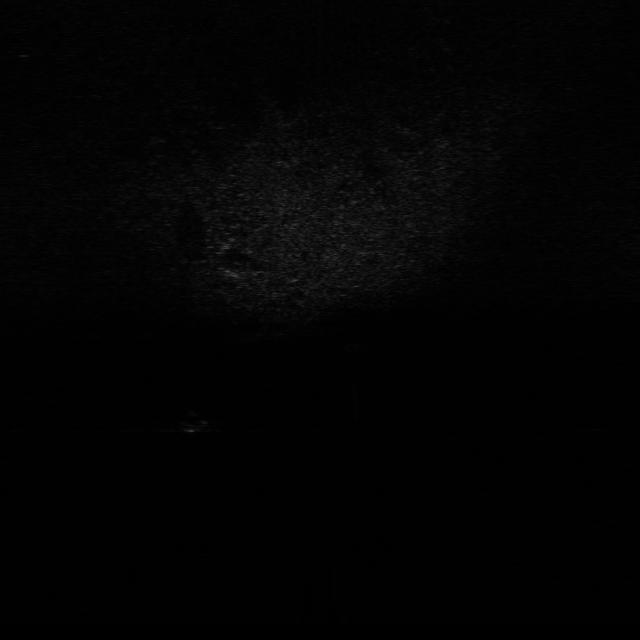ball: (176, 408, 213, 436)
cube: (342, 341, 369, 360)
